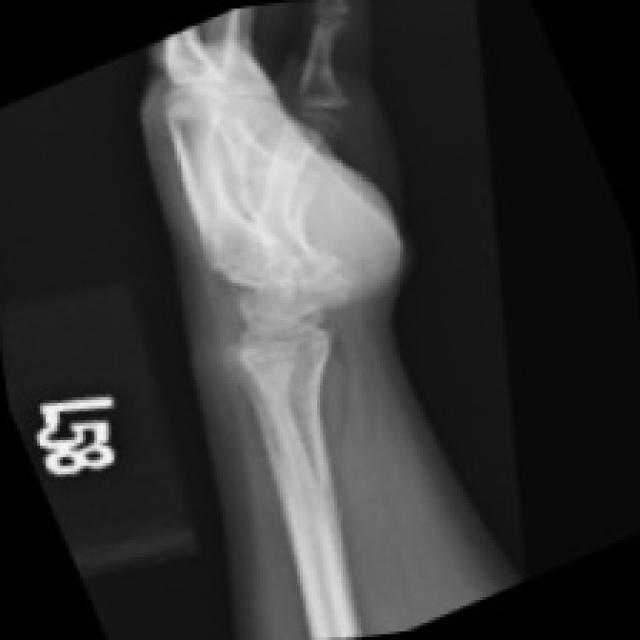fracture: (275, 67, 403, 172)
